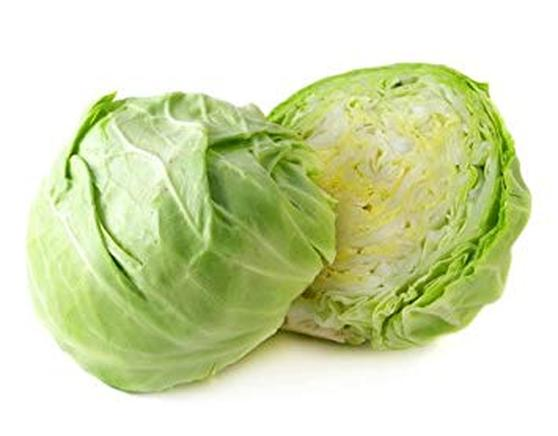cabbage: (26, 92, 341, 392)
